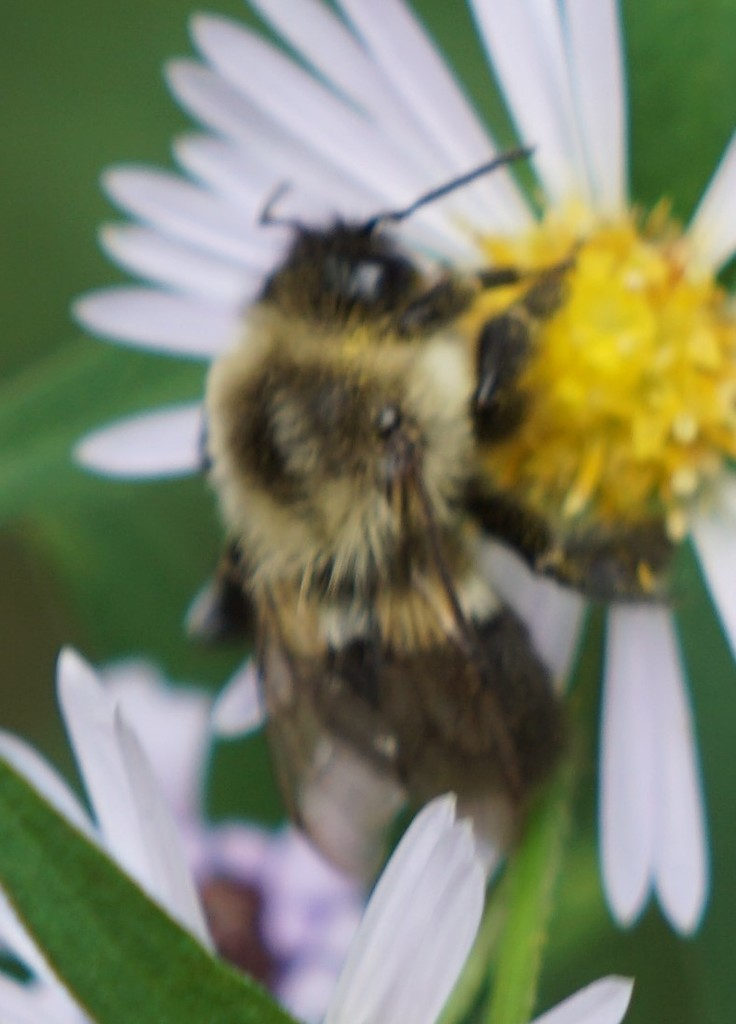bumblebee: (193, 142, 568, 893)
